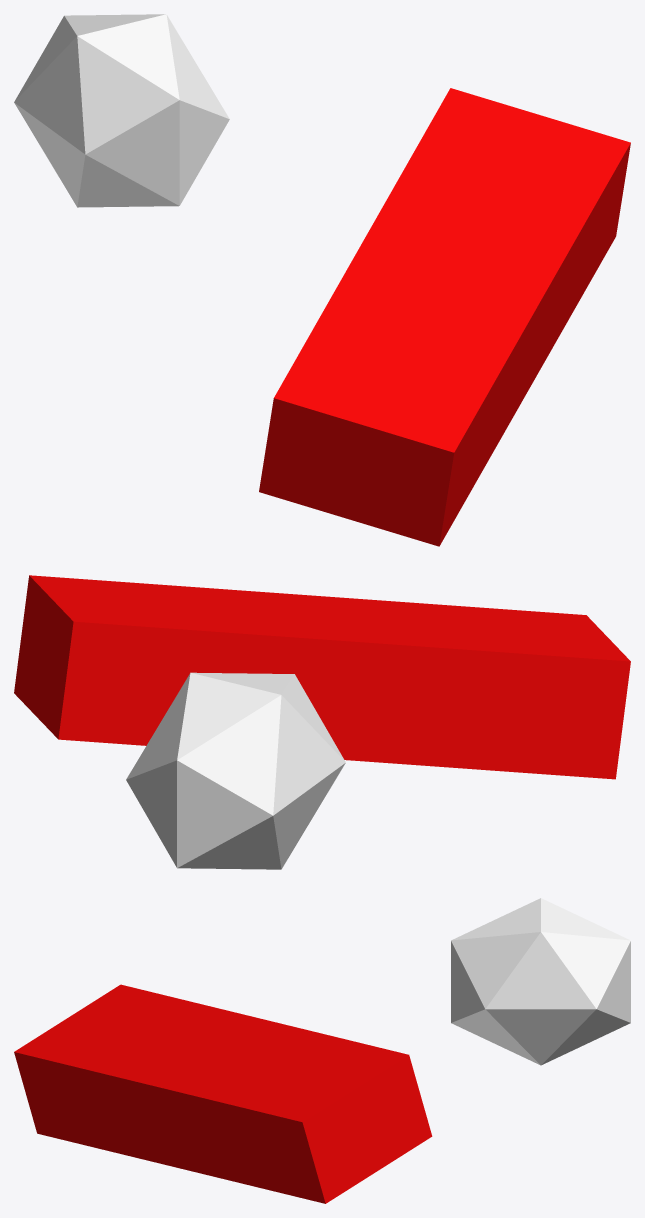
3 views of the same model, one above another, from view 1: azimuth 30°, elevation 25°; view 2: azimuth 150°, elevation 25°; view 3: azimuth 270°, elevation 25° (orthographic). The views are drawn at different scales.
Bounding box in the file's own units: 9.25 × 5.29 × 13.39.
